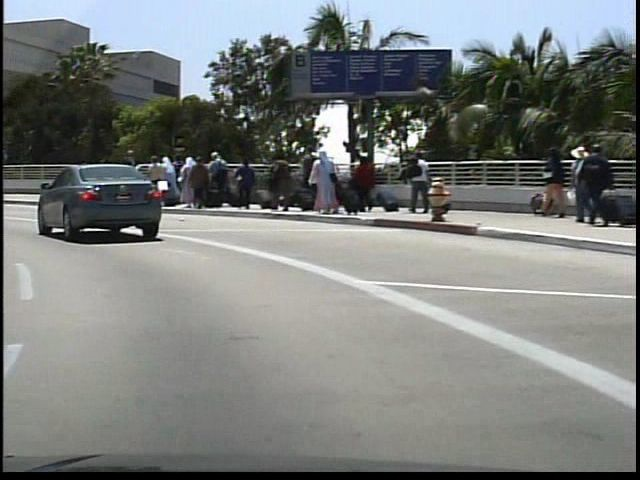person: (568, 143, 609, 228), (402, 147, 431, 216), (76, 151, 105, 212), (116, 146, 144, 209), (142, 152, 161, 208), (84, 155, 104, 196)
